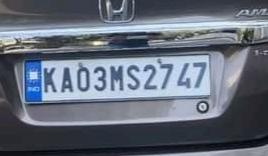0: (76, 65, 90, 92)
2: (142, 64, 159, 91)
3: (92, 64, 107, 92)
4: (176, 60, 193, 90)
7: (192, 60, 209, 90), (159, 63, 173, 91)
A: (59, 65, 74, 95)
K: (41, 65, 60, 95)
M: (109, 63, 125, 92)
S: (125, 63, 141, 92)
